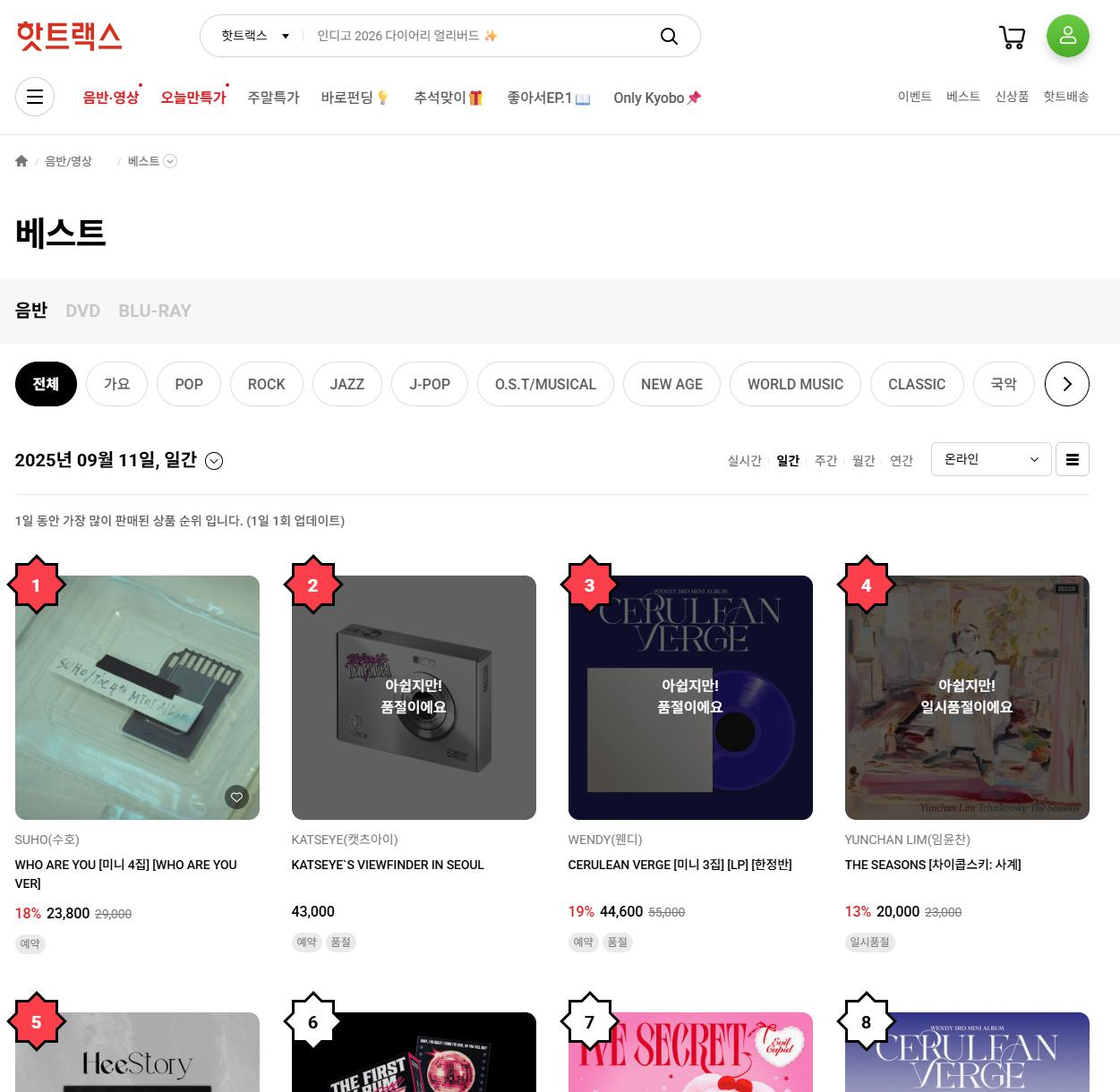button: (475, 360, 620, 409), (727, 360, 867, 409), (622, 359, 724, 409), (870, 358, 965, 408), (608, 78, 712, 118), (498, 78, 601, 118), (389, 360, 473, 409), (228, 359, 308, 408), (311, 76, 402, 117), (311, 358, 385, 408), (968, 358, 1039, 407), (158, 75, 232, 119), (410, 76, 487, 118), (14, 358, 80, 407), (156, 358, 222, 407), (85, 359, 150, 408), (114, 289, 197, 326), (77, 75, 151, 116), (8, 71, 65, 123), (1043, 356, 1096, 410), (1045, 12, 1095, 62), (987, 18, 1040, 62), (243, 78, 302, 115), (59, 290, 108, 328), (9, 292, 55, 327), (1041, 85, 1098, 112), (43, 149, 99, 175), (1056, 439, 1090, 479), (891, 83, 939, 110), (942, 84, 986, 111), (992, 84, 1034, 110), (725, 448, 765, 475), (886, 446, 920, 475), (813, 449, 841, 476), (773, 448, 802, 474), (852, 449, 876, 476), (8, 147, 31, 173)
checkbox: (10, 446, 229, 480), (931, 439, 1055, 483), (209, 16, 303, 54), (124, 147, 184, 173)
input_field: (199, 8, 708, 64)
